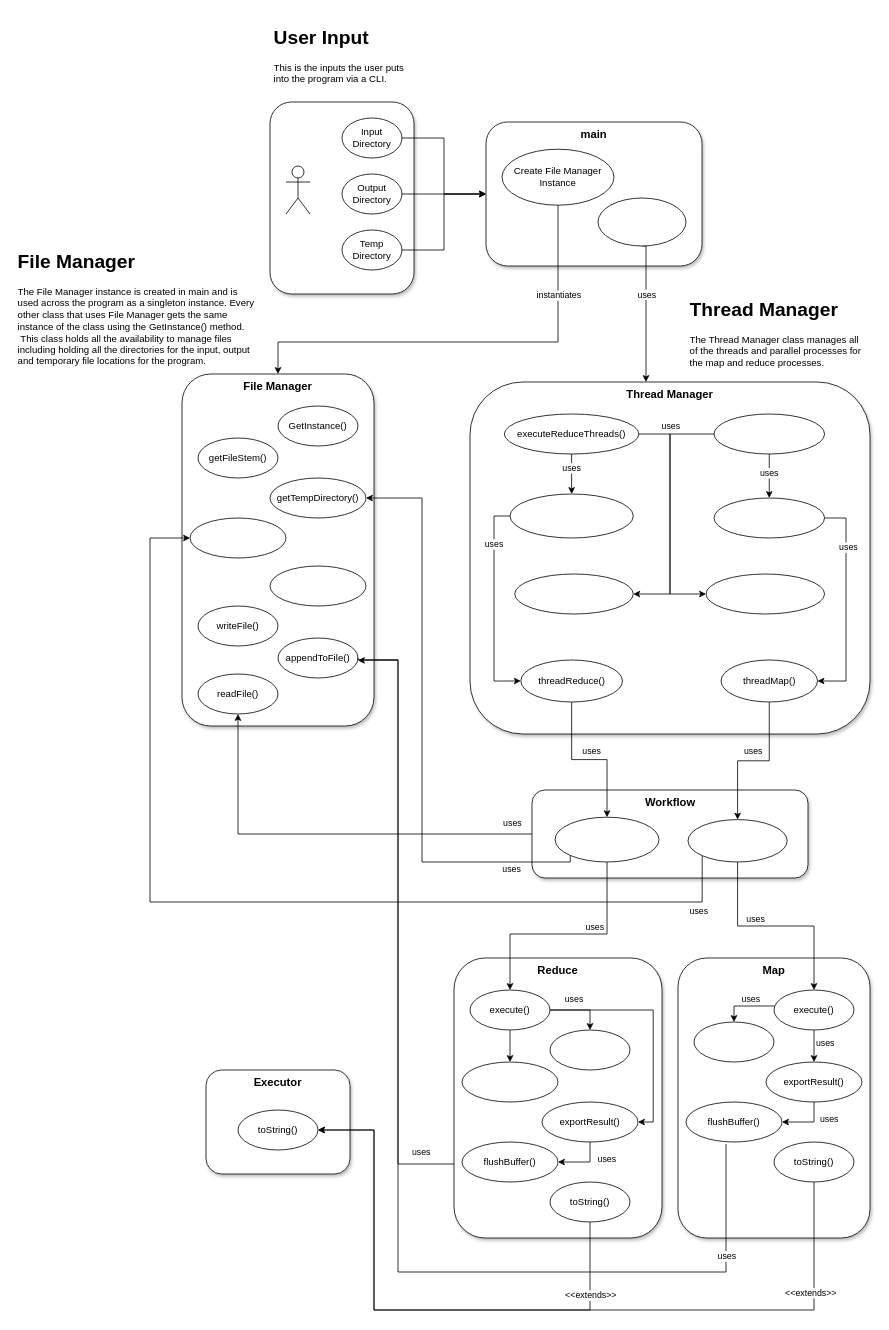
The diagram is 889 pixels wide and 1330 high, and some of its shapes have lost their labels. The shapes that lost their labels are listed below. From the top down, each one's centre as x and y in pixels, then its label:
At (x=297, y=189): "Actor".
At (x=641, y=221): "Create Thread Managers".
At (x=769, y=433): "executeMapThreads()".
At (x=571, y=515): "spawnReduceThreads()".
At (x=769, y=517): "spawnMapThreads()".
At (x=237, y=537): "getOutputDirectory()".
At (x=317, y=585): "getInputDirectory()".
At (x=573, y=593): "deleteThreadList()".
At (x=765, y=593): "joinThreadList()".
At (x=606, y=839): "executeReduce()".
At (x=737, y=840): "executeMap()".
At (x=589, y=1049): "sort()".
At (x=733, y=1041): "tokenize()".
At (x=509, y=1081): "_sum_iterator()".
